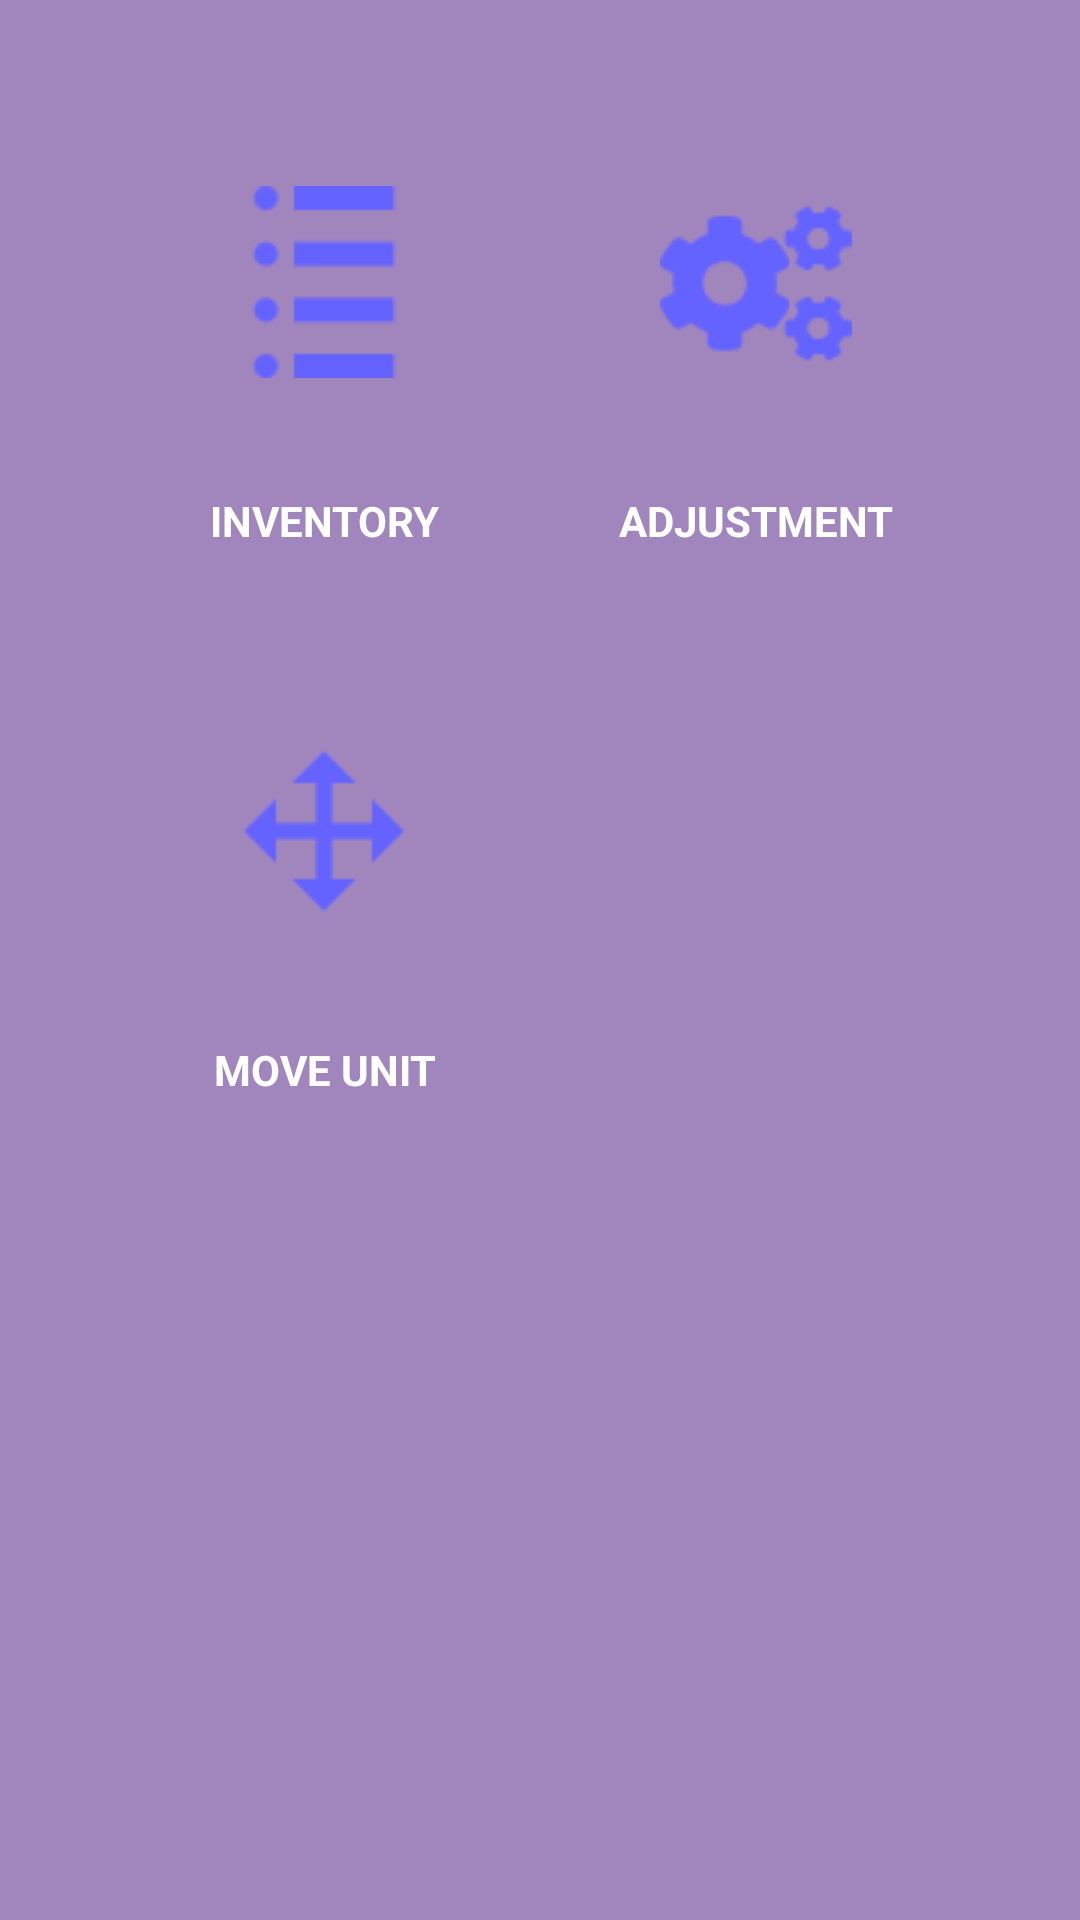

Icon bounding boxes for this 1080×1920 phone screenshot, format box=[x1, y1, x2, y2]:
gears: box=[660, 207, 852, 360]
